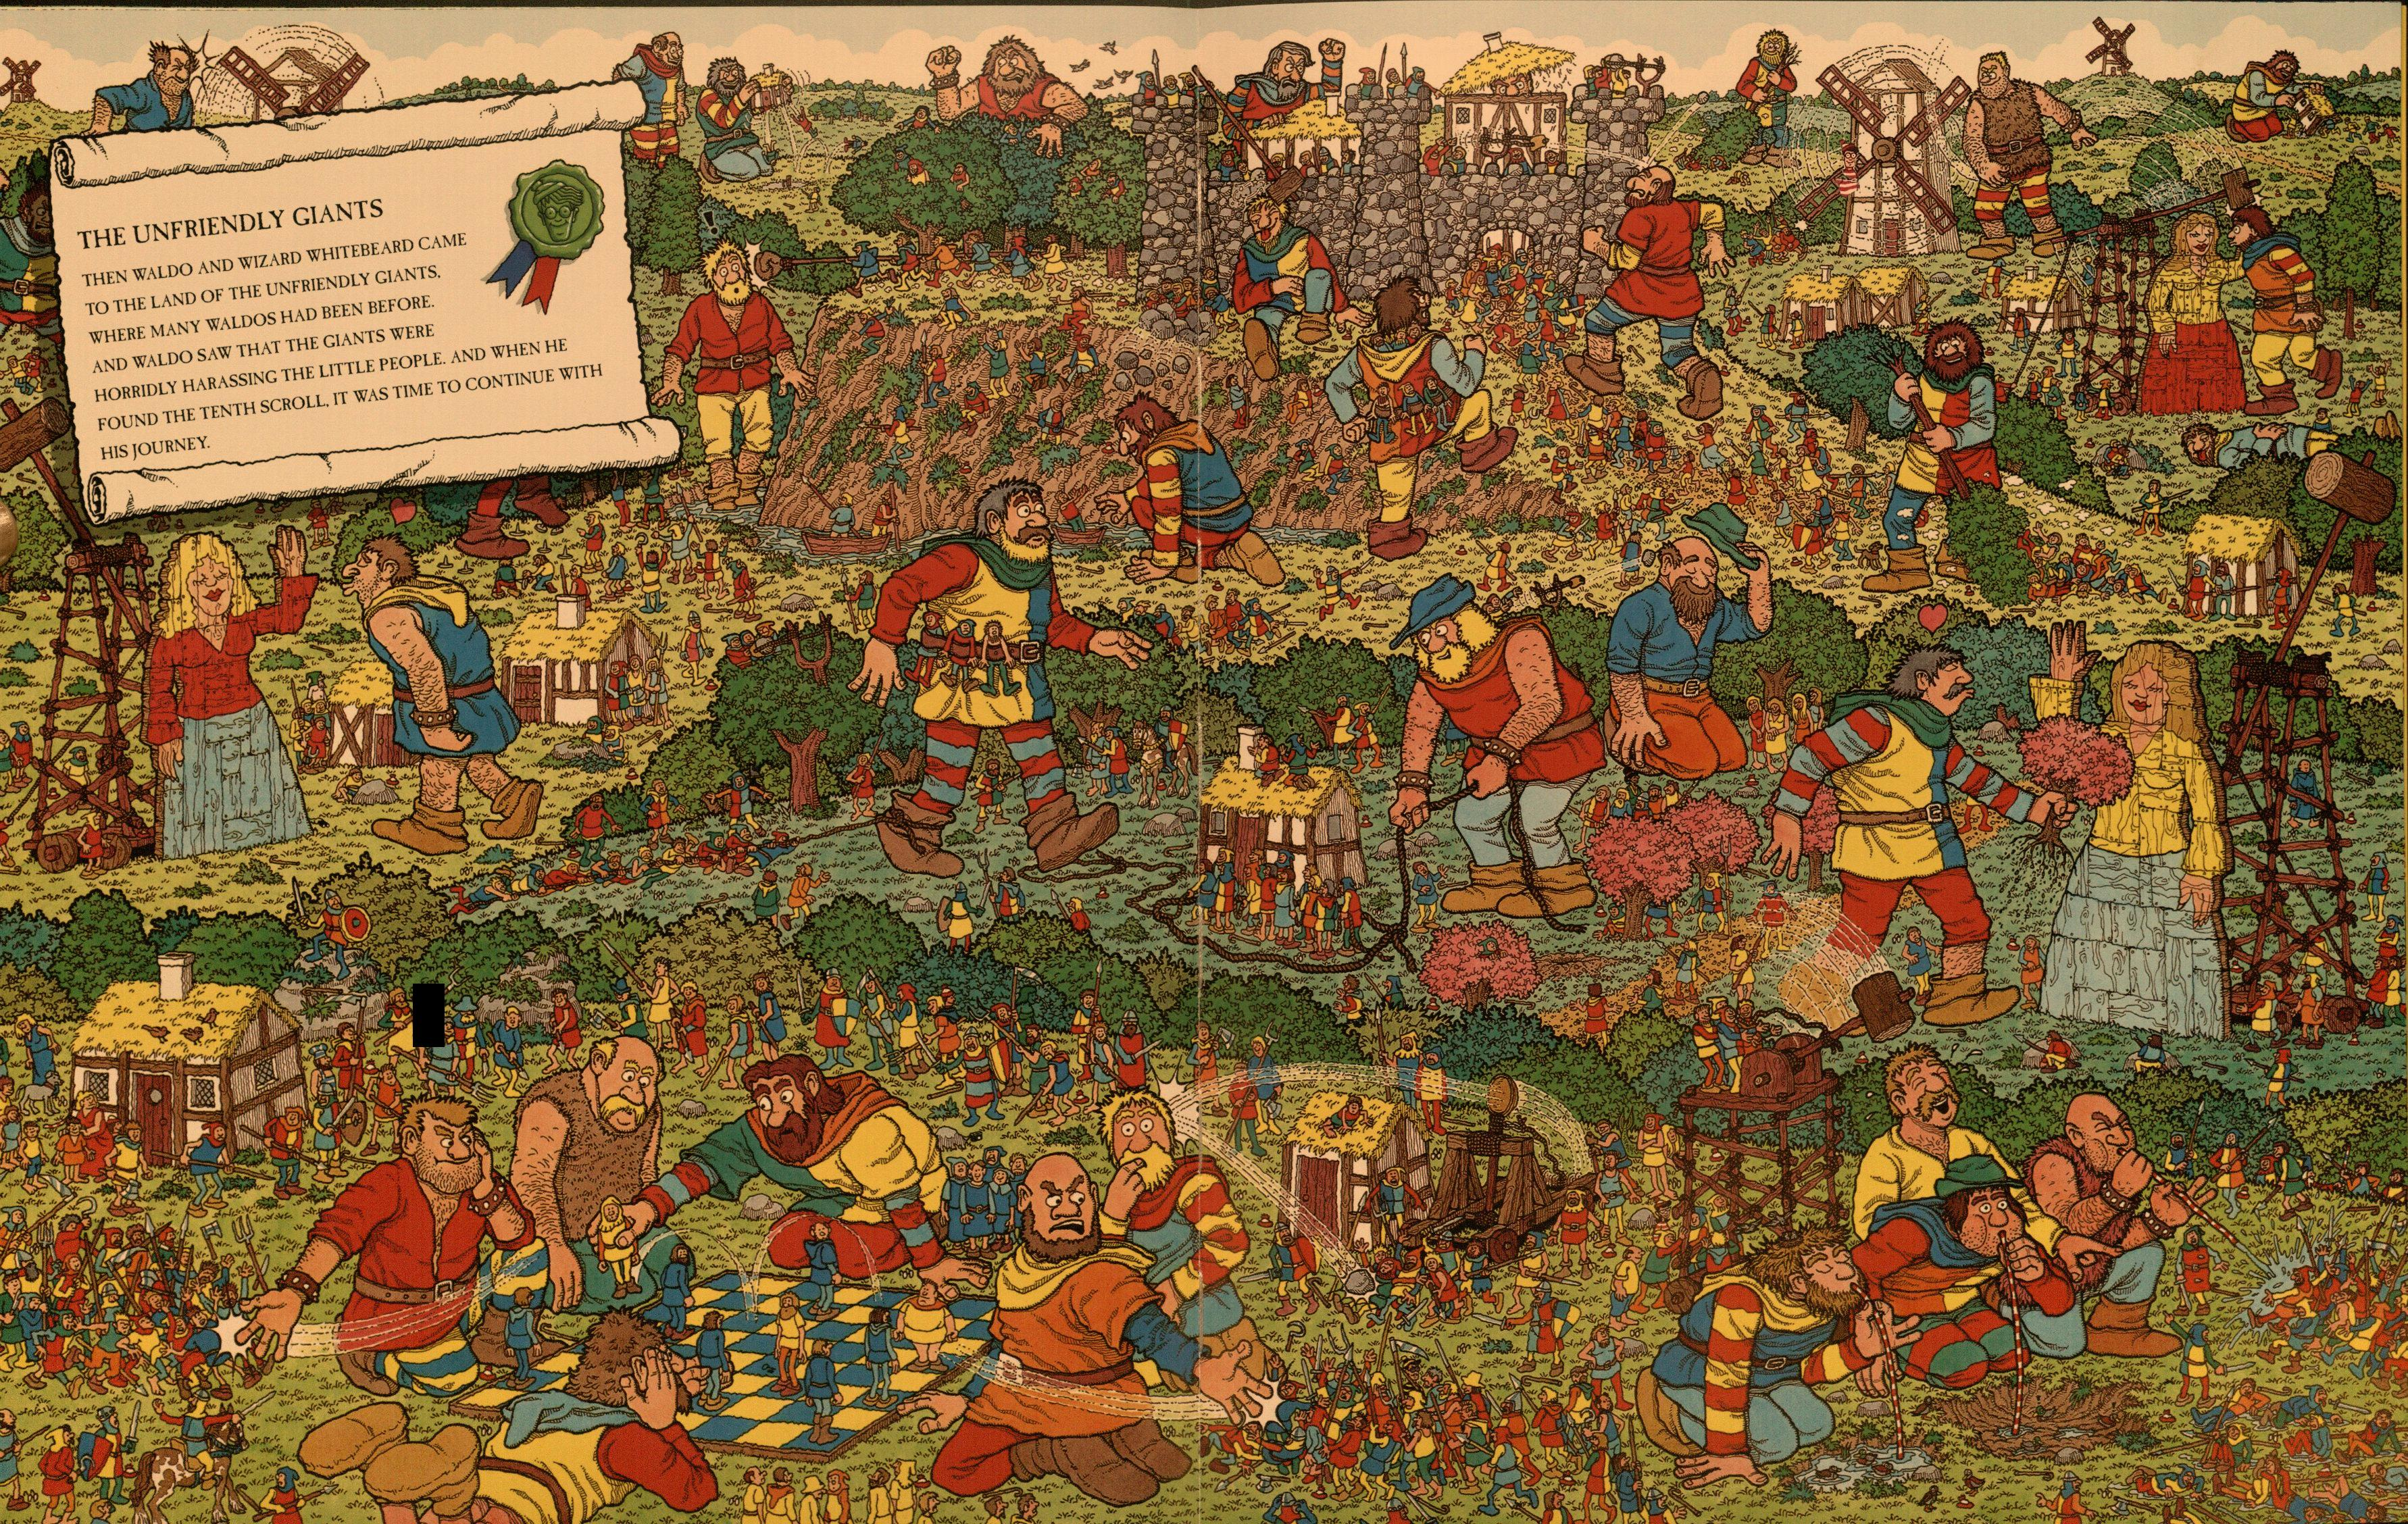waldos: (1832, 137, 1864, 200)
